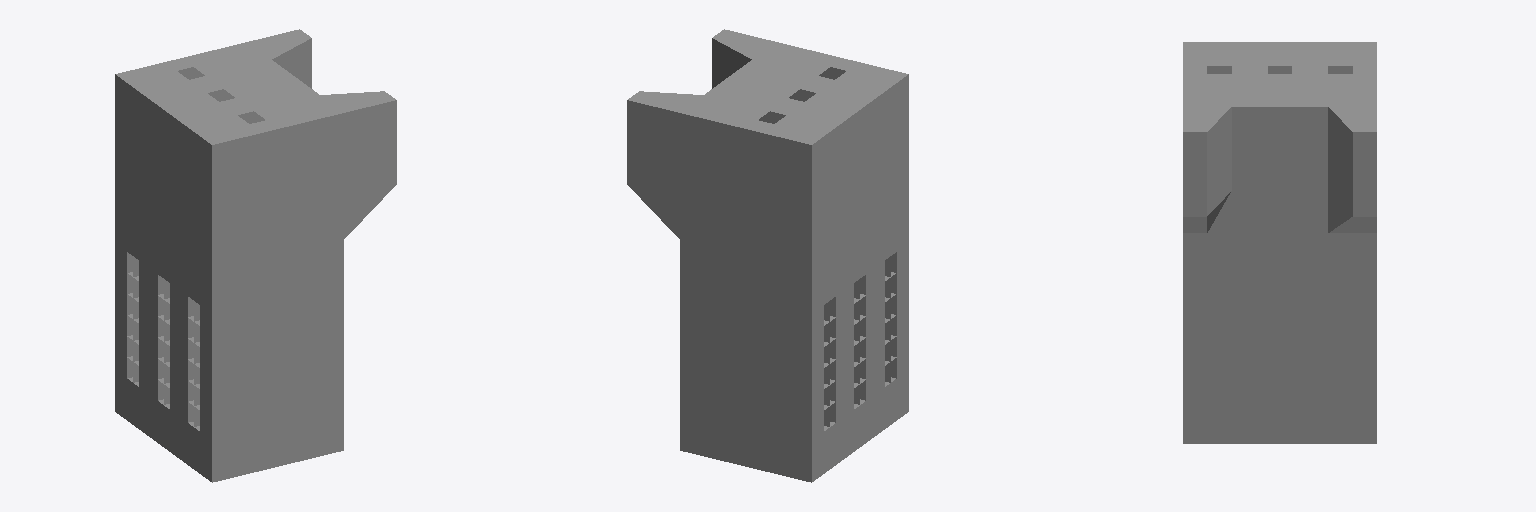
File: jack.obj
The picture shows the model from 3 angles: view 1: azimuth 30°, elevation 25°; view 2: azimuth 150°, elevation 25°; view 3: azimuth 270°, elevation 25°; orthographic projection.
Visible parts, largest first — view 1: Cube; view 2: Cube; view 3: Cube.
Part boxes in pixels (bbox=[...]): Cube: bbox=[115, 29, 396, 482]; Cube: bbox=[627, 29, 908, 482]; Cube: bbox=[1183, 42, 1376, 443].
Bounding box in the file's own units: 1.15 × 2 × 1.04.